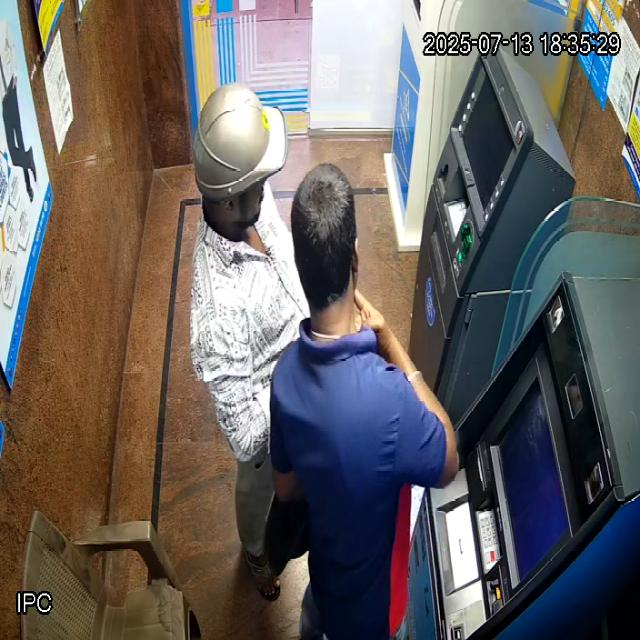helmet: (191, 82, 288, 243)
no_helmet: (290, 163, 359, 334)
